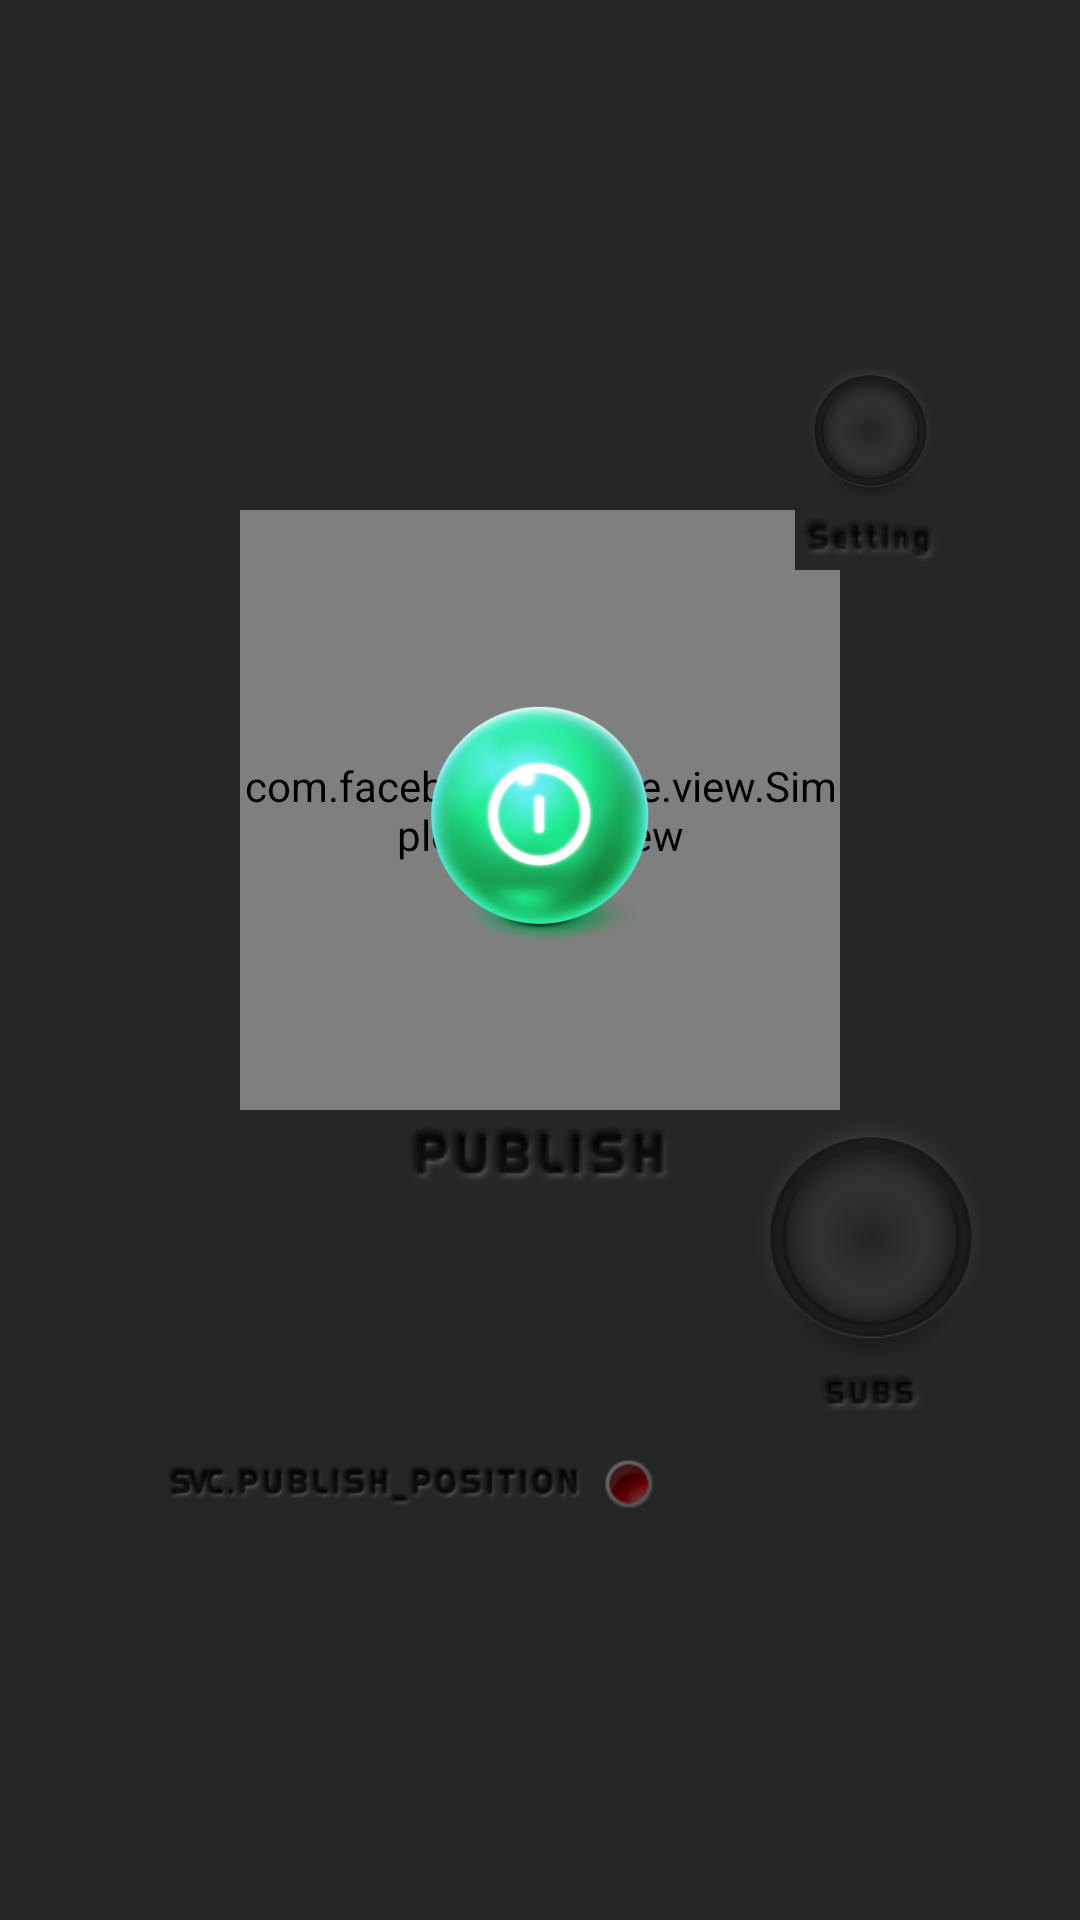

Screen size 1080x1920. Icon name, then its box in pixels as box=[x1, y1, x2, y2]:
alert status off: box=[605, 1460, 652, 1507]
